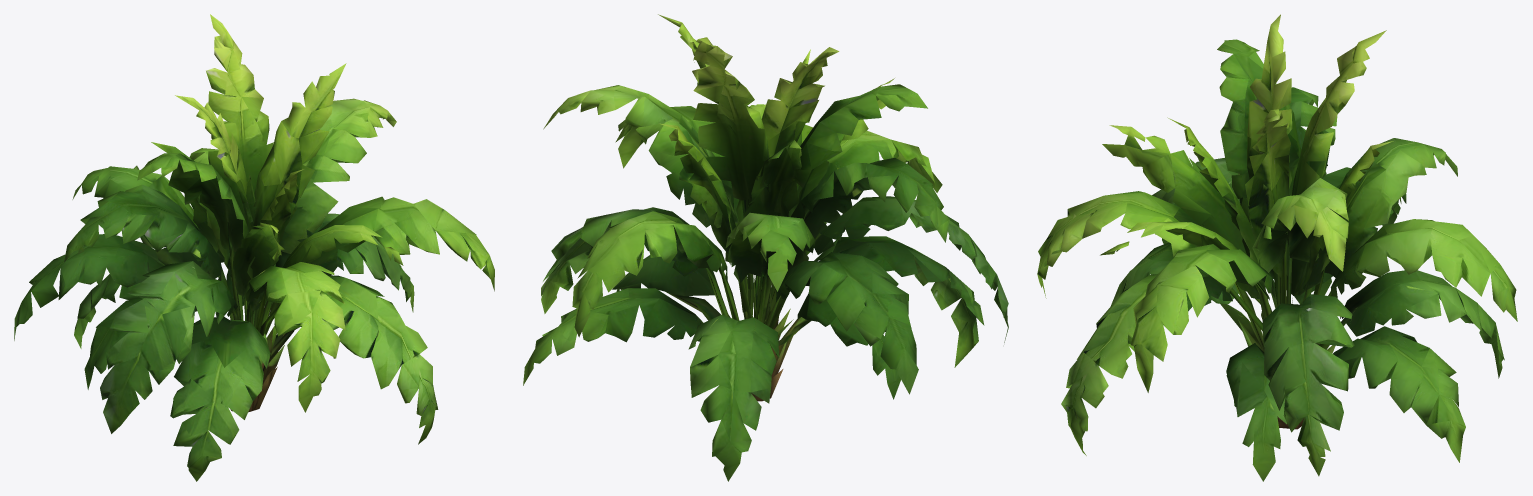
The model's file is Matorral_1_LOD1.glb.
3 views of the same model, side by side, from view 1: azimuth 30°, elevation 25°; view 2: azimuth 150°, elevation 25°; view 3: azimuth 270°, elevation 25° (orthographic). The views are drawn at different scales.
Parts seen in each view (by area): view 1: tripo_node_bbb65b58-1855-41e9-a174-85b17aae8ffe; view 2: tripo_node_bbb65b58-1855-41e9-a174-85b17aae8ffe; view 3: tripo_node_bbb65b58-1855-41e9-a174-85b17aae8ffe.
Part boxes in pixels (left/top/right/bottom): tripo_node_bbb65b58-1855-41e9-a174-85b17aae8ffe: left=14, top=14, right=494, bottom=481; tripo_node_bbb65b58-1855-41e9-a174-85b17aae8ffe: left=523, top=14, right=1008, bottom=481; tripo_node_bbb65b58-1855-41e9-a174-85b17aae8ffe: left=1037, top=14, right=1517, bottom=481.
Bounding box in the file's own units: 1 × 0.9072 × 0.9955.
Materials: 1 (1 with a texture image).
